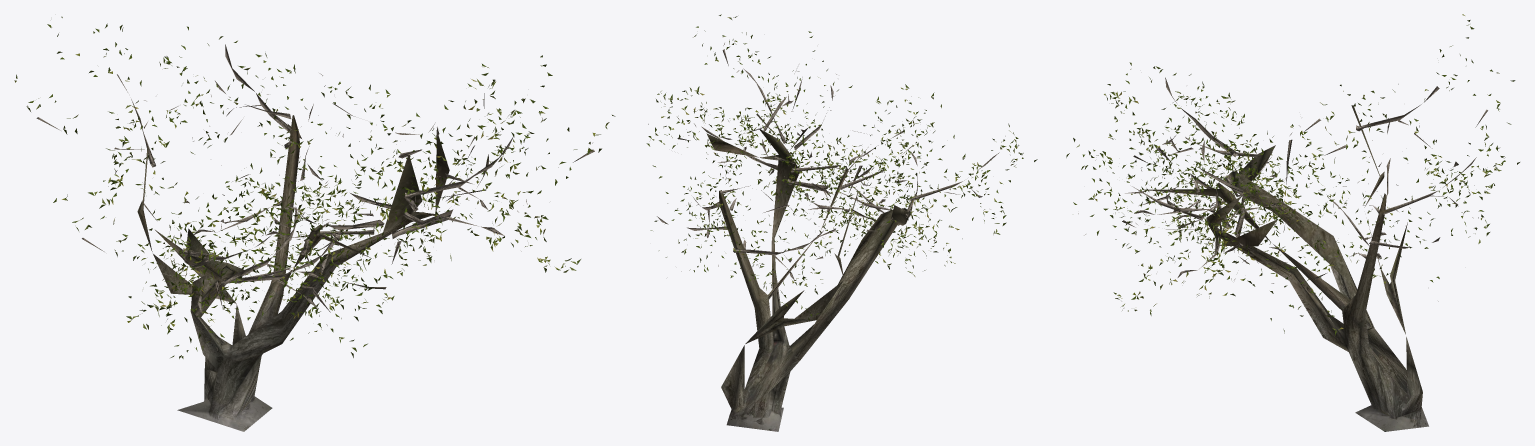
Rendered from island2_lod1.glb.
3 renders of one model, left to right at view 1: azimuth 30°, elevation 25°; view 2: azimuth 150°, elevation 25°; view 3: azimuth 270°, elevation 25°, orthographic. The views are drawn at different scales.
Parts seen in each view (by area): view 1: island_tree_02_LOD0; view 2: island_tree_02_LOD0; view 3: island_tree_02_LOD0.
Boxes of the visible parts, <box> form: island_tree_02_LOD0: <box>14,16,615,431</box>; island_tree_02_LOD0: <box>646,14,1037,431</box>; island_tree_02_LOD0: <box>1066,14,1519,431</box>.
Size of the model in its own units: 3.77 by 3.38 by 4.03.
3 materials, 3 textured.
